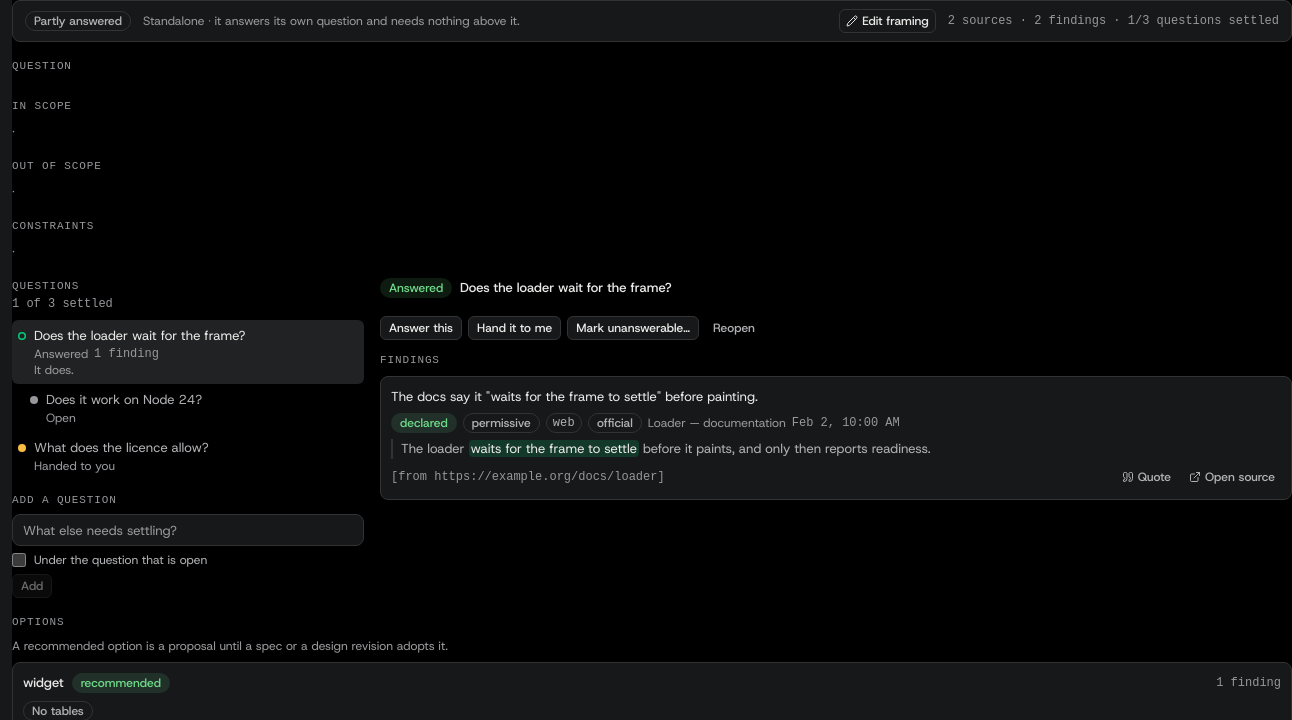
Test: the research detail › says plainly that findings are recorded by the research loop when there are none
Click the button "What does the licence allow? Handed to you" at (188, 456), box [12, 432, 364, 480]
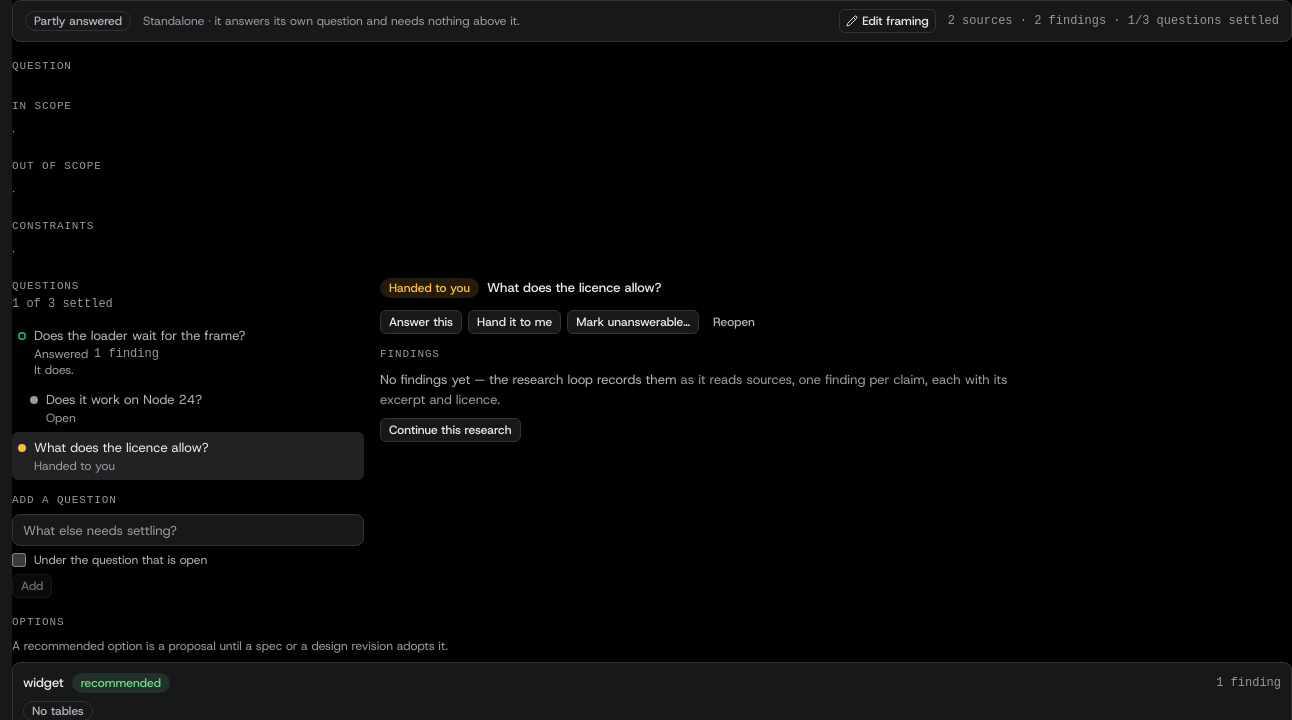
Check: the text "No findings yet — the research loop records them" is shown, box [380, 371, 677, 388]
